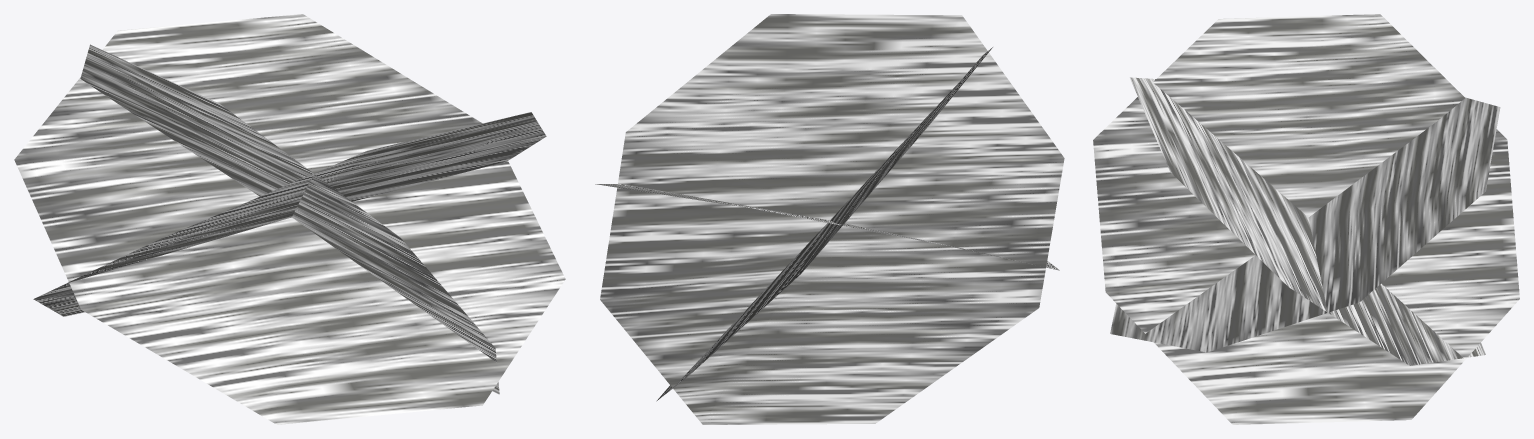
File: mist_2.obj
3 views of the same model, side by side, from view 1: azimuth 30°, elevation 25°; view 2: azimuth 150°, elevation 25°; view 3: azimuth 270°, elevation 25° (orthographic). The views are drawn at different scales.
Parts seen in each view (by area): view 1: cube; view 2: cube; view 3: cube.
Boxes of the visible parts, x1=… form: cube: x1=14, y1=14, x2=565, y2=424; cube: x1=595, y1=14, x2=1064, y2=424; cube: x1=1093, y1=14, x2=1519, y2=424.
Size of the model in its own units: 2.22 by 1.63 by 2.1.
